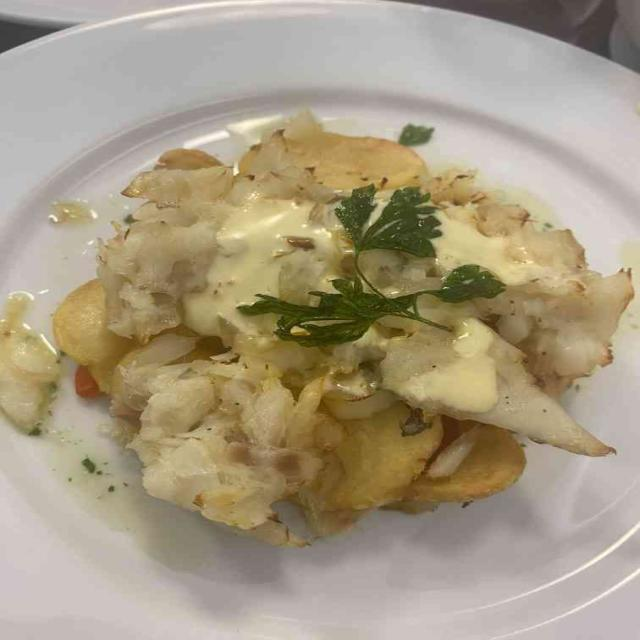cake: (54, 114, 632, 545)
plate: (0, 3, 639, 639)
